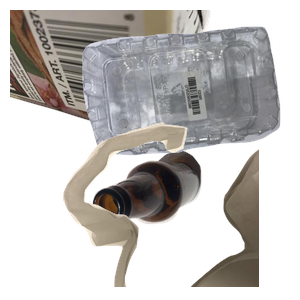cardboard: (10, 10, 213, 146)
glass: (90, 148, 300, 300)
plastic: (80, 24, 300, 172)
trash: (60, 120, 300, 300)
